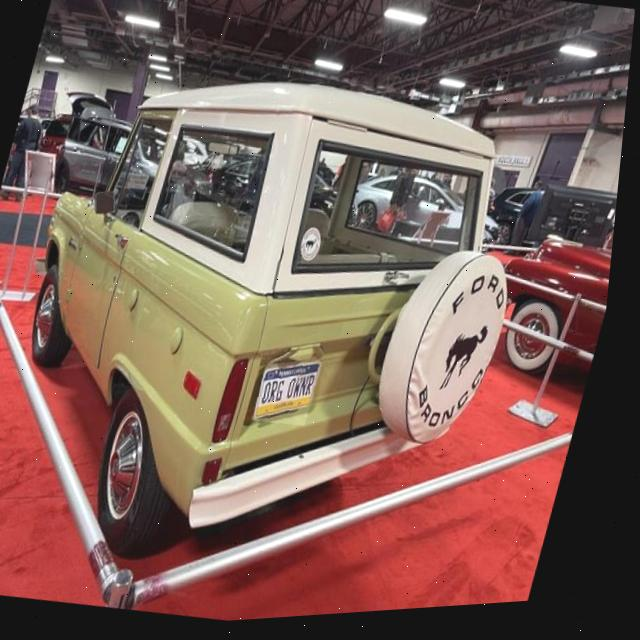LicensePlate: (261, 368, 329, 424)
